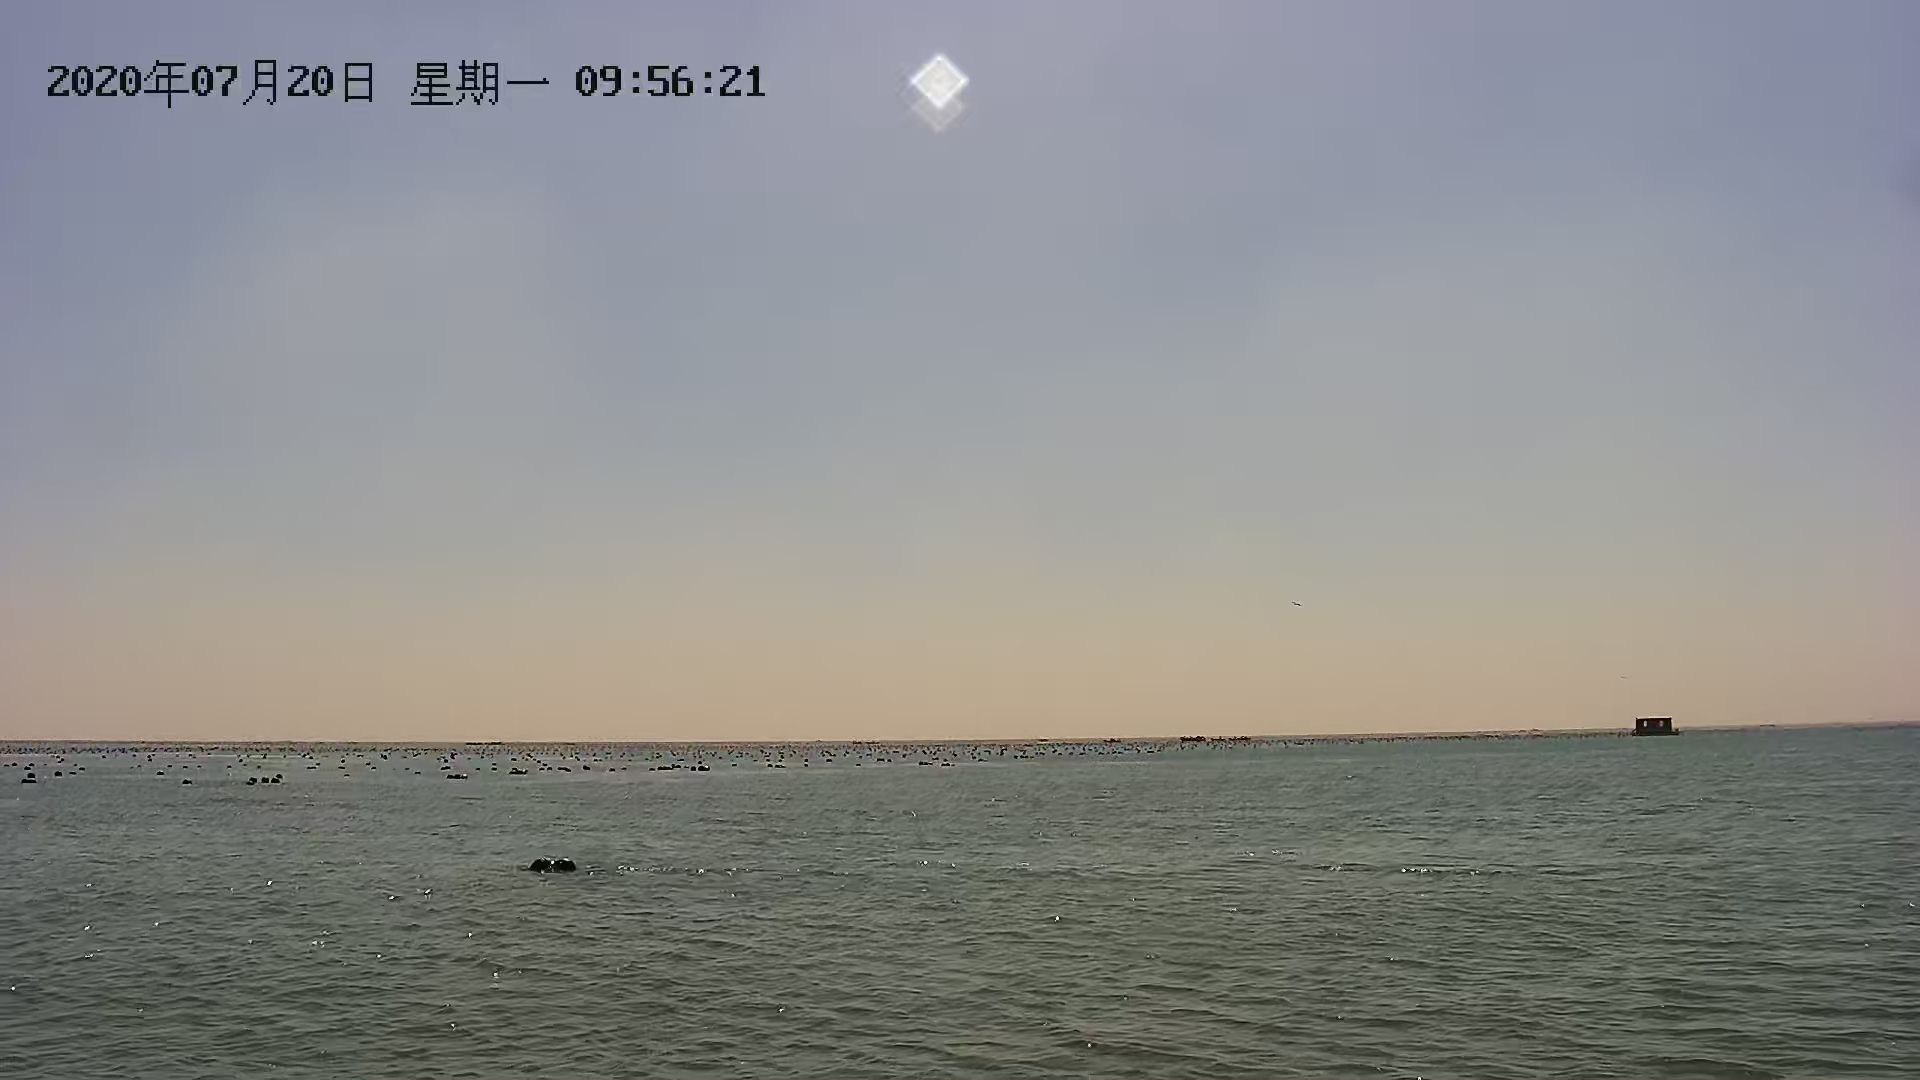ball: (549, 848, 580, 874), (529, 852, 556, 880)
platform: (1621, 717, 1687, 738)
